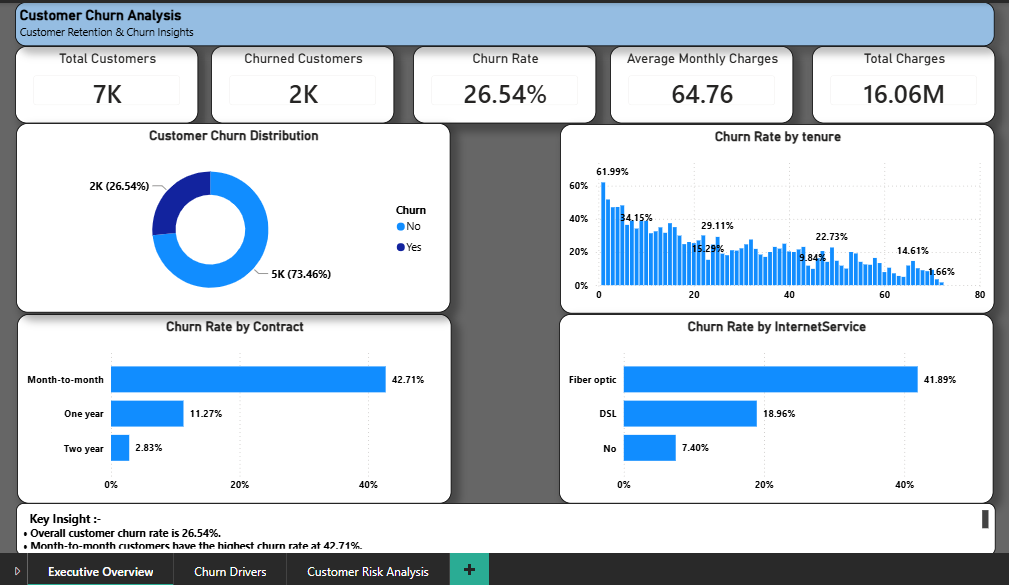

What the dashboard file says about the page in this screenshot:
{"tool":"powerbi","page":{"name":"Executive Overview","canvas":[1280,720],"ordinal":0},"visuals":[{"type":"cardVisual","title":"Total Customers","fields":{"Data":["Cleaned_Data.Total Customers"]},"box":[20.6,58.8,232.2,98.4],"z":0},{"type":"cardVisual","title":"Churned Customers","fields":{"Data":["Cleaned_Data.Churned Customers"]},"box":[268.9,58.8,232.2,98.4],"z":1000},{"type":"cardVisual","title":"Churn Rate","fields":{"Data":["Cleaned_Data.Churn Rate"]},"box":[524.6,58.8,232.2,98.4],"z":2000},{"type":"cardVisual","title":"Average Monthly Charges","fields":{"Data":["Cleaned_Data.Average Monthly Charges"]},"box":[772.9,58.8,232.2,98.4],"z":3000},{"type":"cardVisual","title":"Total Charges","fields":{"Data":["Cleaned_Data.Total Charges"]},"box":[1028.6,58.8,232.2,98.4],"z":4000},{"type":"clusteredBarChart","fields":{"Category":["Cleaned_Data.Contract"],"Y":["Cleaned_Data.Churn Rate"]},"box":[22.4,397,550,240],"z":5000},{"type":"clusteredColumnChart","fields":{"Category":["Cleaned_Data.tenure"],"Y":["Cleaned_Data.Churn Rate"]},"box":[710.4,156.7,550,240],"z":6000},{"type":"clusteredBarChart","fields":{"Category":["Cleaned_Data.InternetService"],"Y":["Cleaned_Data.Churn Rate"]},"box":[709,397,550,240],"z":7000},{"type":"donutChart","title":"Customer Churn Distribution","fields":{"Category":["Cleaned_Data.Churn"],"Y":["Cleaned_Data.Total Customers"]},"box":[20.9,155.2,550,240],"z":8000},{"type":"textbox","box":[20.9,637.3,1240.3,67.2],"z":9000},{"type":"shape","title":"Customer Churn Analysis ","box":[20.6,2.9,1240.2,55.8],"z":10000}]}

Visuals, with their boxes in screenshot pixels (x1, y1, x2, y2):
"Total Customers" cardVisual: 21 48 202 125
"Churned Customers" cardVisual: 214 48 395 125
"Churn Rate" cardVisual: 413 48 594 125
"Average Monthly Charges" cardVisual: 606 48 787 125
"Total Charges" cardVisual: 805 48 985 125
clusteredBarChart - Cleaned_Data.Contract x Cleaned_Data.Churn Rate: 23 311 450 498
clusteredColumnChart - Cleaned_Data.tenure x Cleaned_Data.Churn Rate: 558 124 985 311
clusteredBarChart - Cleaned_Data.InternetService x Cleaned_Data.Churn Rate: 556 311 984 498
"Customer Churn Distribution" donutChart: 22 123 449 310
textbox: 22 498 986 550
"Customer Churn Analysis " shape: 21 5 985 48
